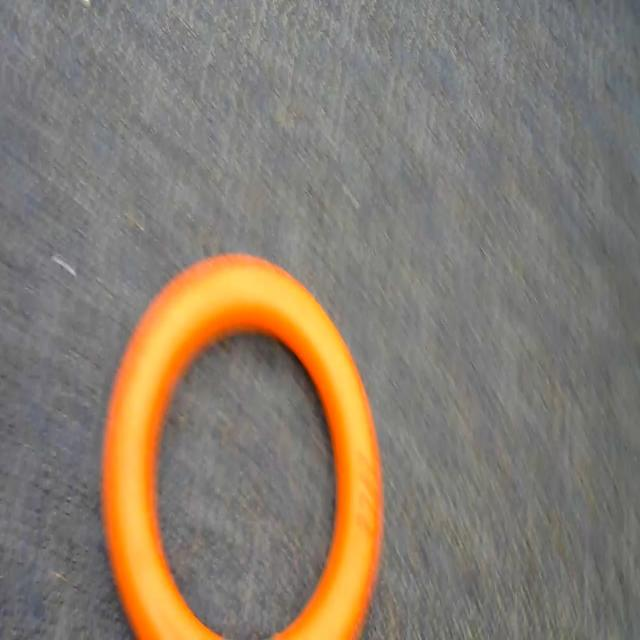note: (89, 239, 416, 640)
